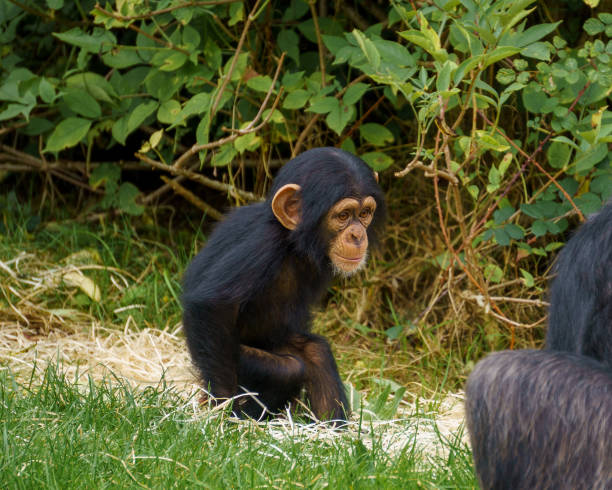chimpanzee: (260, 131, 410, 302)
